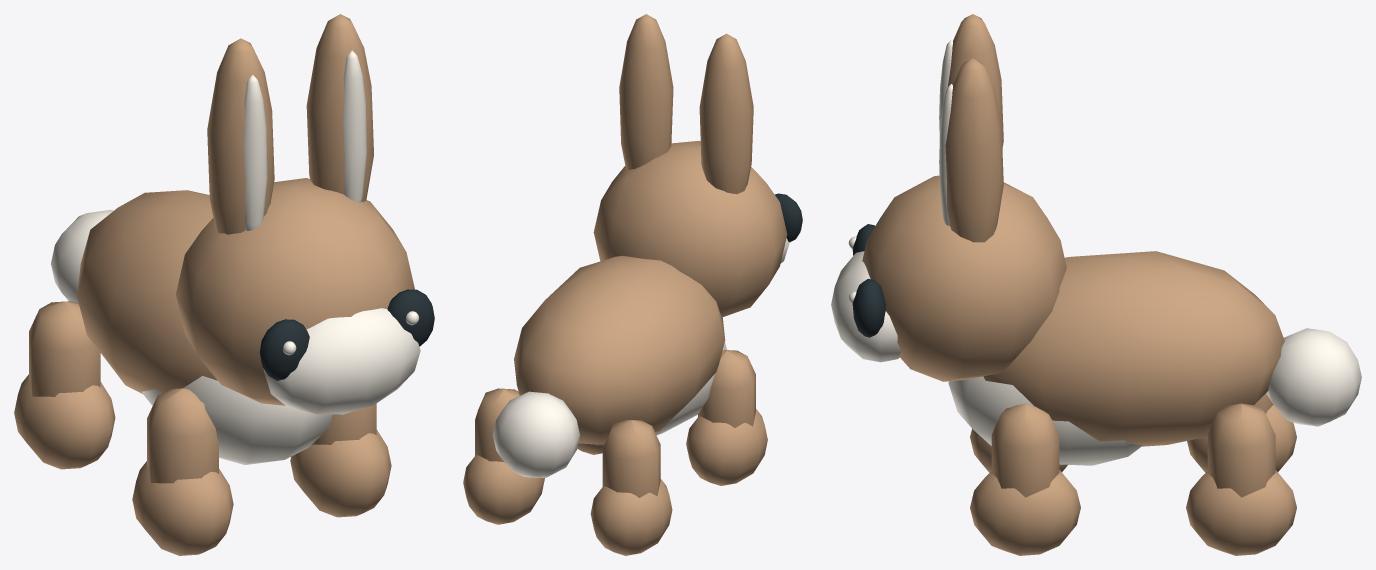
The model's file is org_rabbit.glb.
3 views of the same model, side by side, from view 1: azimuth 30°, elevation 25°; view 2: azimuth 150°, elevation 25°; view 3: azimuth 270°, elevation 25° (orthographic). The views are drawn at different scales.
Parts seen in each view (by area): view 1: Head, Body, Leg_FR, Leg_BR, Leg_FL, Tail, Eye_R, Eye_L; view 2: Head, Body, Leg_BR, Leg_FR, Tail, Leg_BL, Eye_R; view 3: Body, Head, Leg_BL, Leg_FL, Tail, Leg_BR, Eye_L.
Part boxes in pixels (x1,y1,x2,y2): Head: [176, 14, 420, 414]; Body: [77, 190, 332, 464]; Leg_FR: [132, 388, 233, 555]; Leg_BR: [14, 301, 115, 469]; Leg_FL: [290, 403, 391, 517]; Tail: [51, 210, 113, 303]; Eye_R: [259, 319, 309, 380]; Eye_L: [387, 289, 434, 346]; Head: [593, 14, 789, 317]; Body: [514, 255, 726, 444]; Leg_BR: [590, 419, 672, 555]; Leg_FR: [686, 350, 767, 485]; Tail: [493, 391, 579, 477]; Leg_BL: [463, 388, 544, 524]; Eye_R: [775, 193, 802, 242]; Body: [948, 251, 1284, 465]; Head: [831, 14, 1066, 381]; Leg_BL: [1186, 403, 1296, 555]; Leg_FL: [970, 404, 1080, 555]; Tail: [1266, 328, 1361, 426]; Leg_BR: [1187, 393, 1296, 472]; Eye_L: [848, 279, 885, 337].
Size of the model in its own units: 0.2384 by 0.5 by 0.5.
